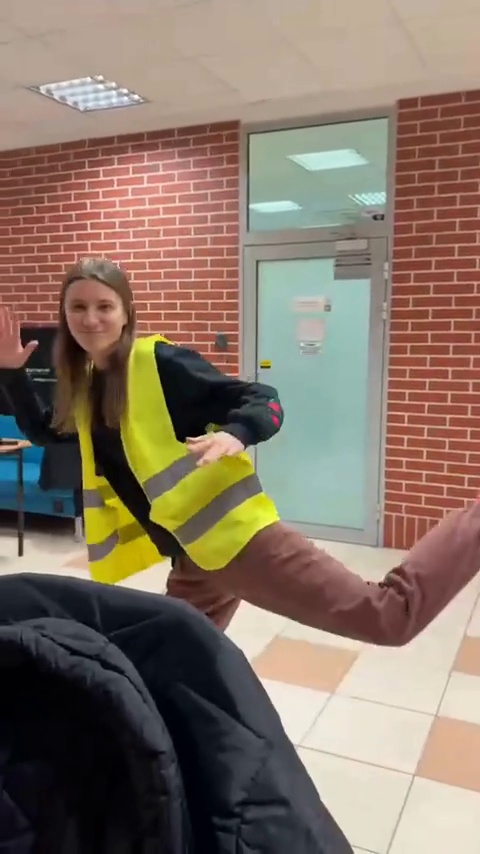vest: (38, 232, 414, 658)
